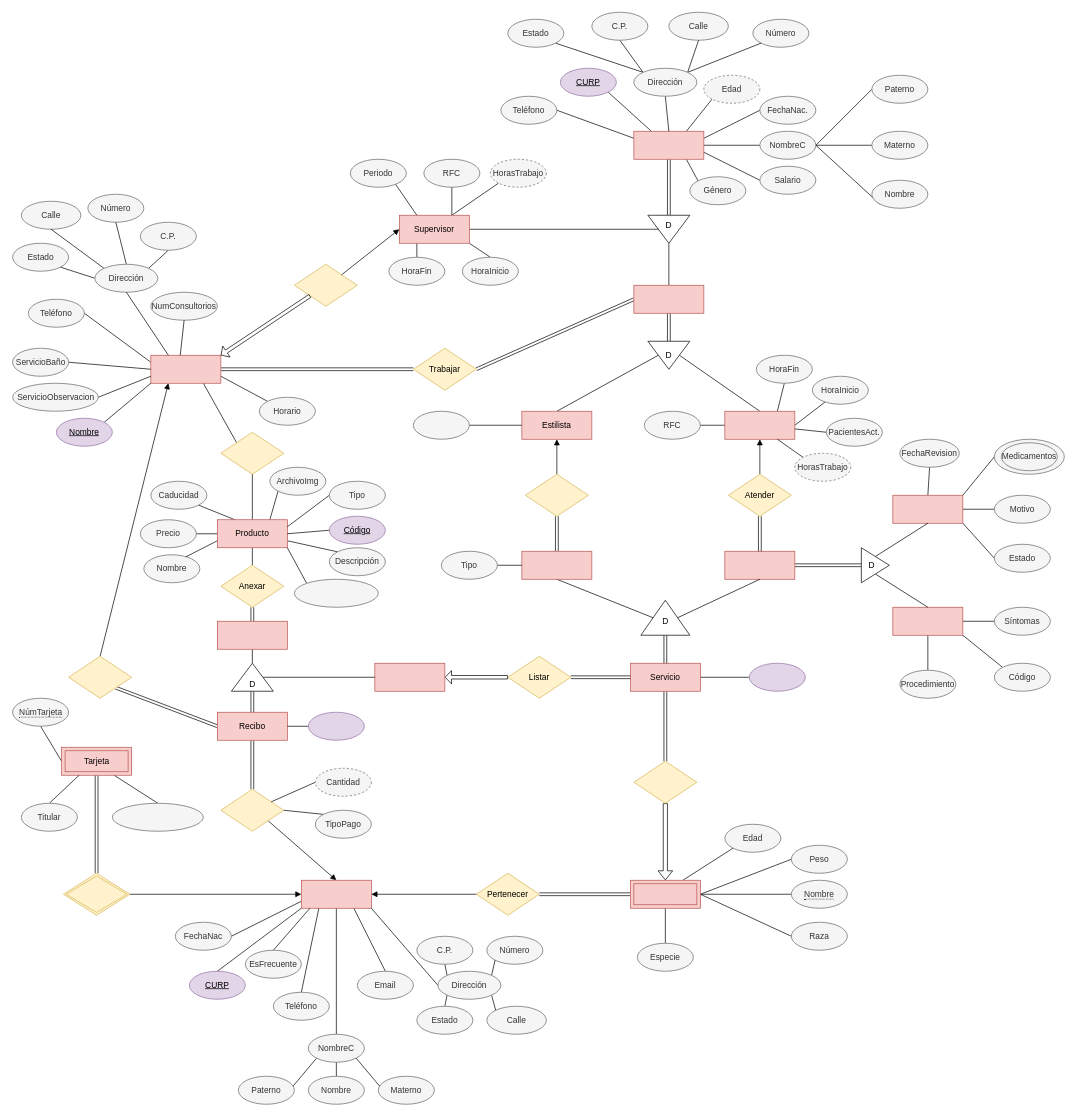
This 1077x1117 diagram has some shape labels left out. Each missing label, with the centre of its shape:
"Asociar" belongs at pixel 96 894.
"cantidadInventario" belongs at pixel 336 593.
"Certificado" belongs at pixel 441 425.
"Consulta" belongs at pixel 759 565.
"Dueño" belongs at pixel 336 894.
"Emergencia" belongs at pixel 927 621.
"Estetica" belongs at pixel 185 369.
"FechaVencimiento" belongs at pixel 157 817.
"IdServicio" belongs at pixel 777 677.
"Mascota" belongs at pixel 665 894.
"Normal" belongs at pixel 927 509.
"NumRecibo" belongs at pixel 336 726.
"Pagar" belongs at pixel 252 810.
"Procurar" belongs at pixel 556 495.
"Realizar" belongs at pixel 665 782.
"ReciboProducto" belongs at pixel 252 635.
"ReciboServicio" belongs at pixel 409 677.
"Registrar" belongs at pixel 100 677.
"Supervisar" belongs at pixel 325 285.
"Trabajador" belongs at pixel 668 145.
"TrabajadorPlanta" belongs at pixel 668 299.
"Trat.Estético" belongs at pixel 556 565.
"Vender" belongs at pixel 252 453.
"Veterinario" belongs at pixel 759 425.
